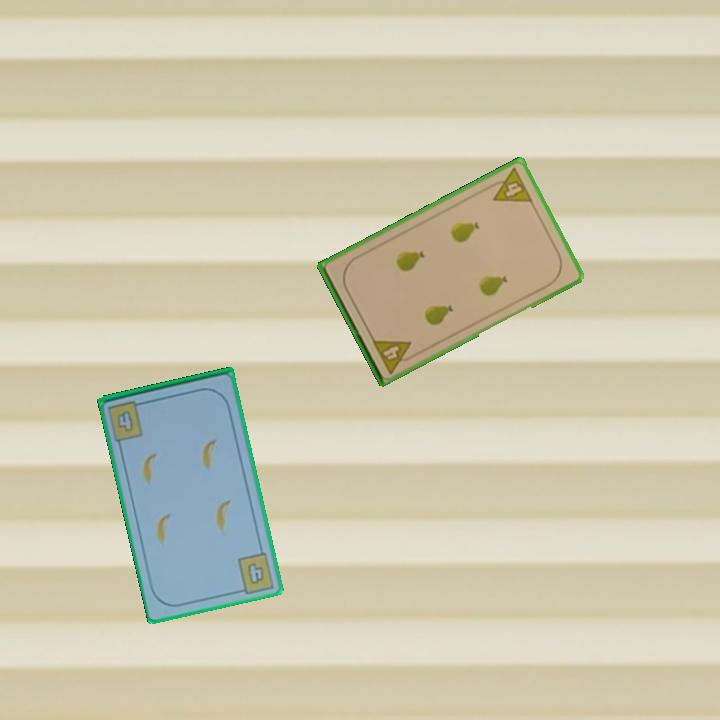4b: (234, 548, 277, 596), (114, 407, 137, 435)
4p: (483, 164, 536, 205), (368, 335, 419, 376)
